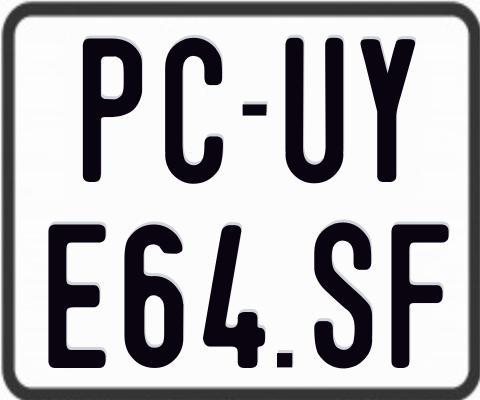4: (202, 224, 267, 367)
6: (122, 224, 181, 374)
C: (165, 36, 227, 188)
E: (48, 222, 112, 366)
F: (390, 224, 452, 374)
P: (80, 37, 141, 183)
S: (311, 221, 375, 368)
U: (284, 36, 345, 184)
Y: (360, 38, 416, 185)
